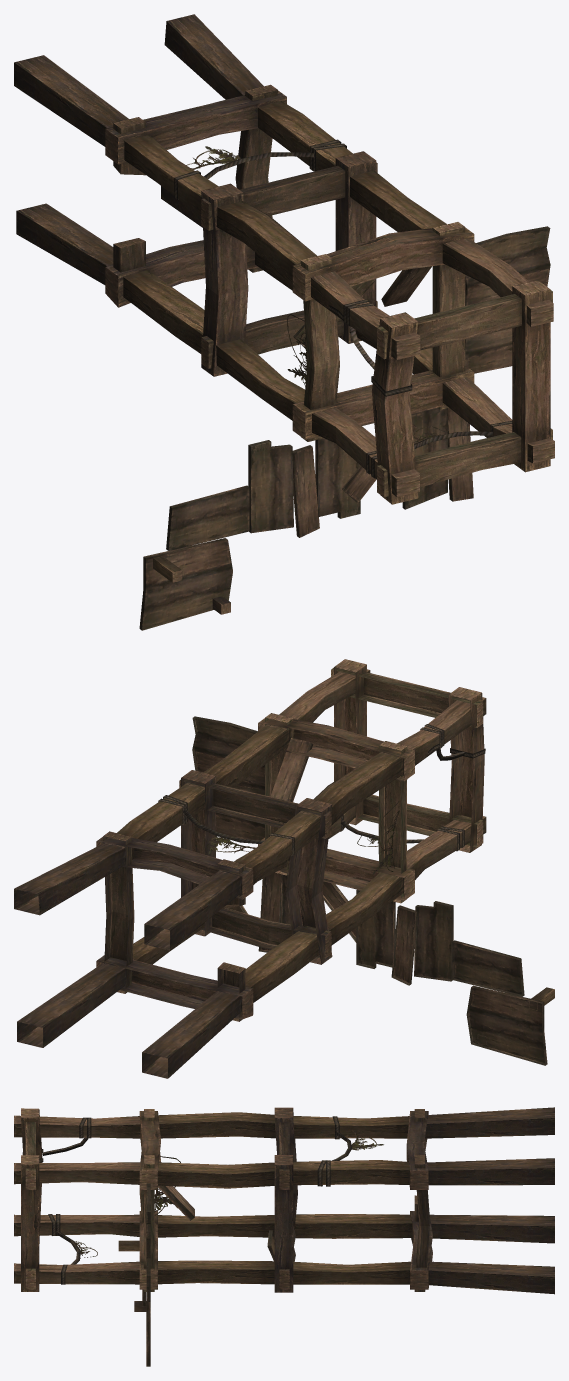
Rendered from dongfang_yewai_358_mujia01.obj.
3 renders of one model, top to bottom at view 1: azimuth 30°, elevation 25°; view 2: azimuth 150°, elevation 25°; view 3: azimuth 270°, elevation 25°, orthographic. The views are drawn at different scales.
Parts seen in each view (by area): view 1: dongfang_yewai_358_mujia01; view 2: dongfang_yewai_358_mujia01; view 3: dongfang_yewai_358_mujia01.
Part boxes in pixels (x1,y1,x2,y2): dongfang_yewai_358_mujia01: [14, 14, 554, 630]; dongfang_yewai_358_mujia01: [14, 659, 554, 1078]; dongfang_yewai_358_mujia01: [14, 1107, 554, 1366].
Bounding box in the file's own units: 645 × 495 × 1024.
5 materials, 5 textured.
